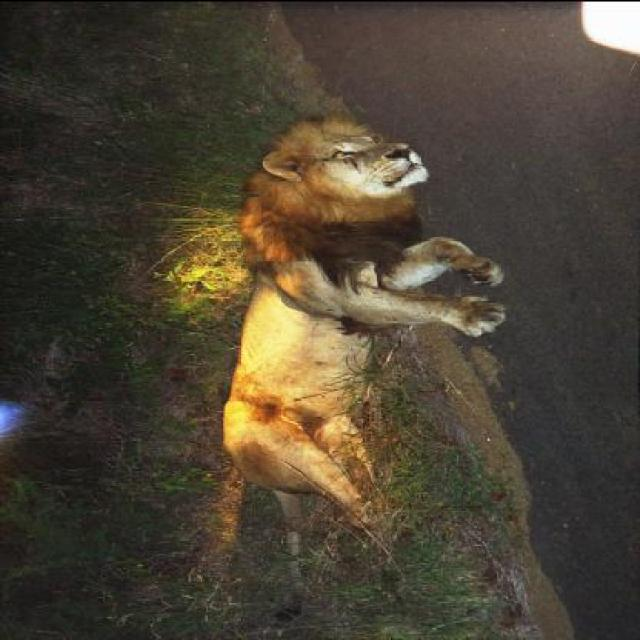Lion: (212, 109, 538, 549)
